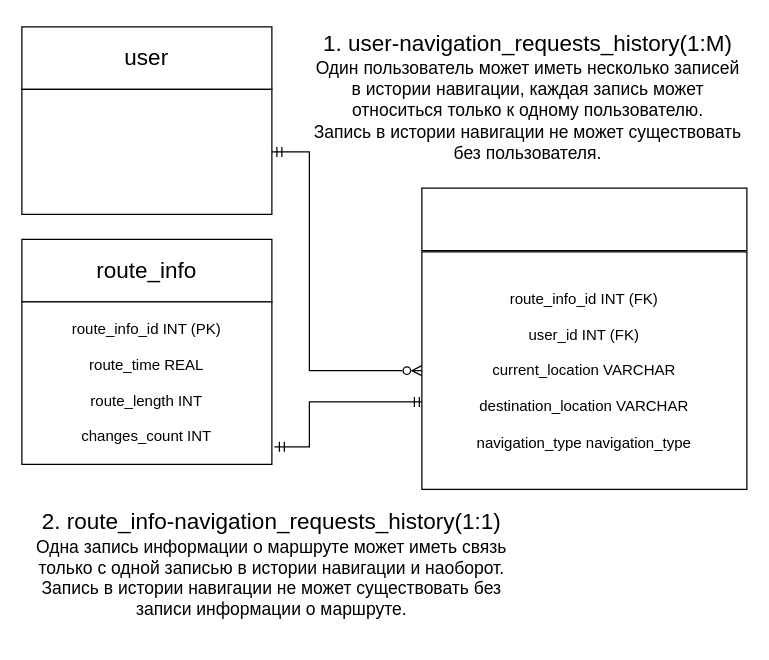
Image size: 769x660. Some labels were removed from this diagram. The shapes that lost their labels are listed below. From the top down, each one's centre as x and y in pixels, then its label:
At (x=146, y=151): "user_id INT (PK ) name VARCHAR mail VARCHAR".
At (x=584, y=219): "navigation_requests_history".
